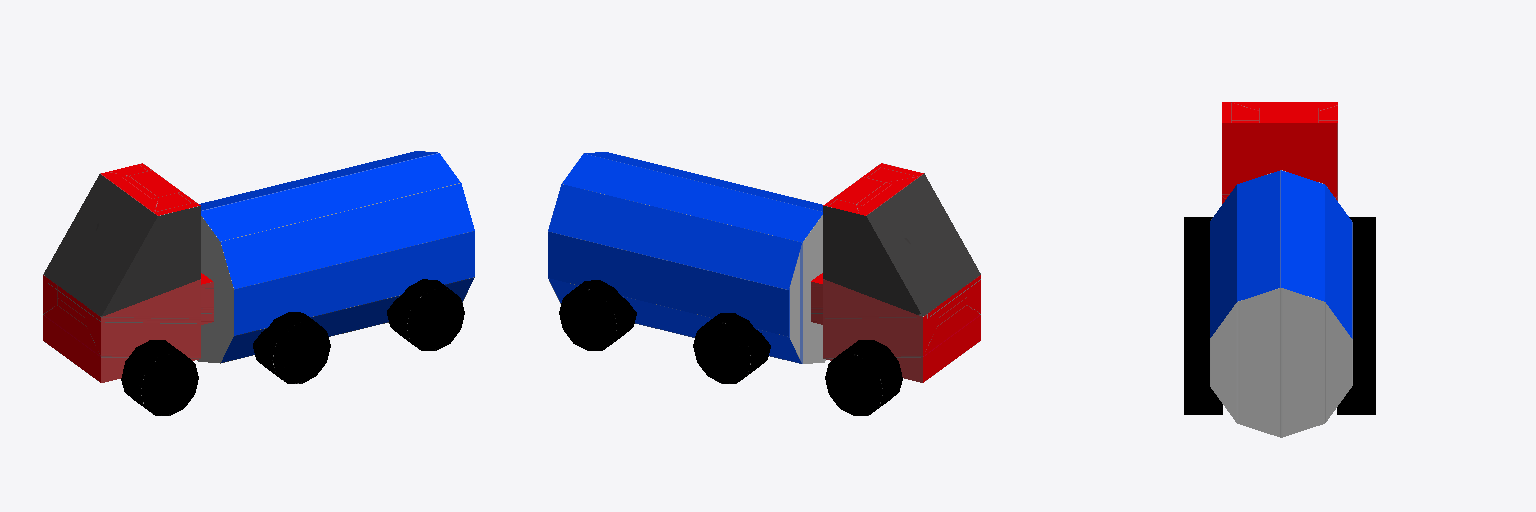
The picture shows the model from 3 angles: view 1: azimuth 30°, elevation 25°; view 2: azimuth 150°, elevation 25°; view 3: azimuth 270°, elevation 25°; orthographic projection.
Visible parts, largest first — view 1: Camion2; view 2: Camion2; view 3: Camion2.
Part boxes in pixels (bbox=[...]): Camion2: bbox=[43, 151, 474, 415]; Camion2: bbox=[548, 152, 980, 415]; Camion2: bbox=[1184, 102, 1375, 437].
Bounding box in the file's own units: 81.75 × 39.16 × 37.12.
Materials: 1 (1 with a texture image).